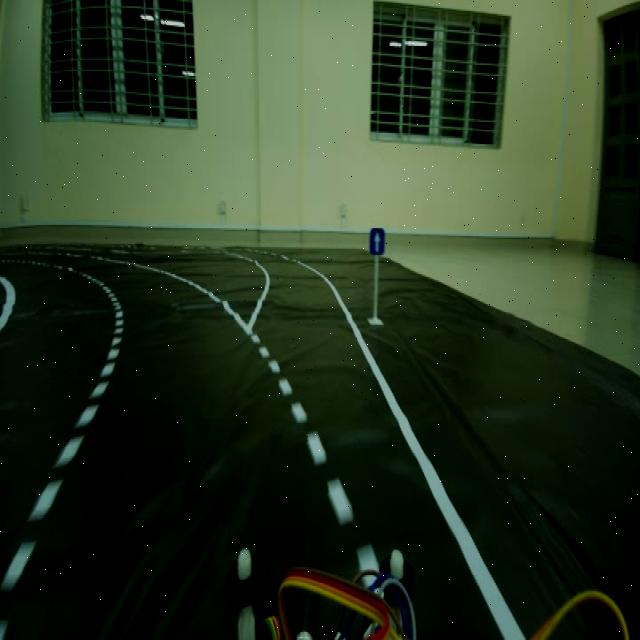onewayroad: (366, 224, 388, 261)
